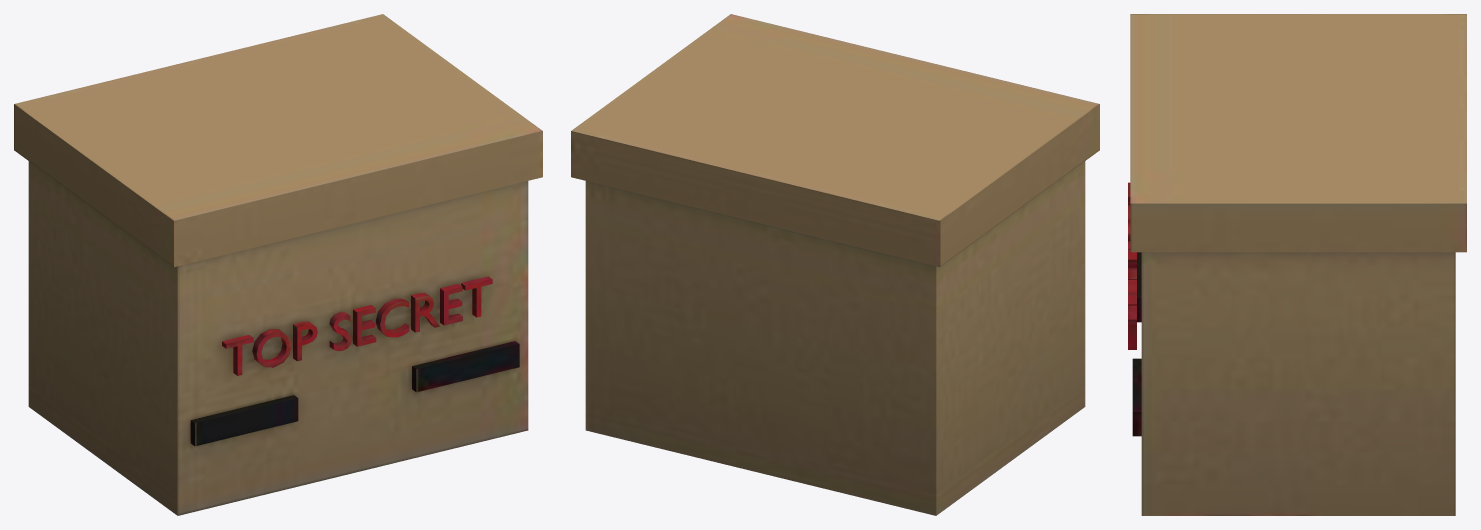
The model's file is caja_documentos.glb.
The picture shows the model from 3 angles, left to right: view 1: azimuth 30°, elevation 25°; view 2: azimuth 150°, elevation 25°; view 3: azimuth 270°, elevation 25°; orthographic projection. The views are drawn at different scales.
Visible parts, largest first — view 1: caja_documentos; view 2: caja_documentos; view 3: caja_documentos.
Boxes of the visible parts, x1=… form: caja_documentos: x1=14, y1=14, x2=542, y2=515; caja_documentos: x1=571, y1=14, x2=1099, y2=515; caja_documentos: x1=1128, y1=14, x2=1466, y2=515.
Size of the model in its own units: 1 by 0.78 by 0.755.
Materials: 1 (1 with a texture image).
